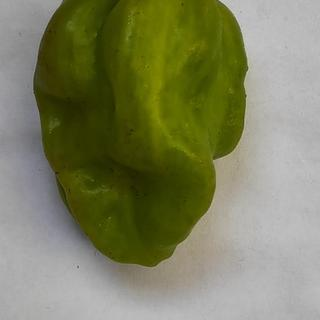Grade-A: (32, 0, 249, 271)
